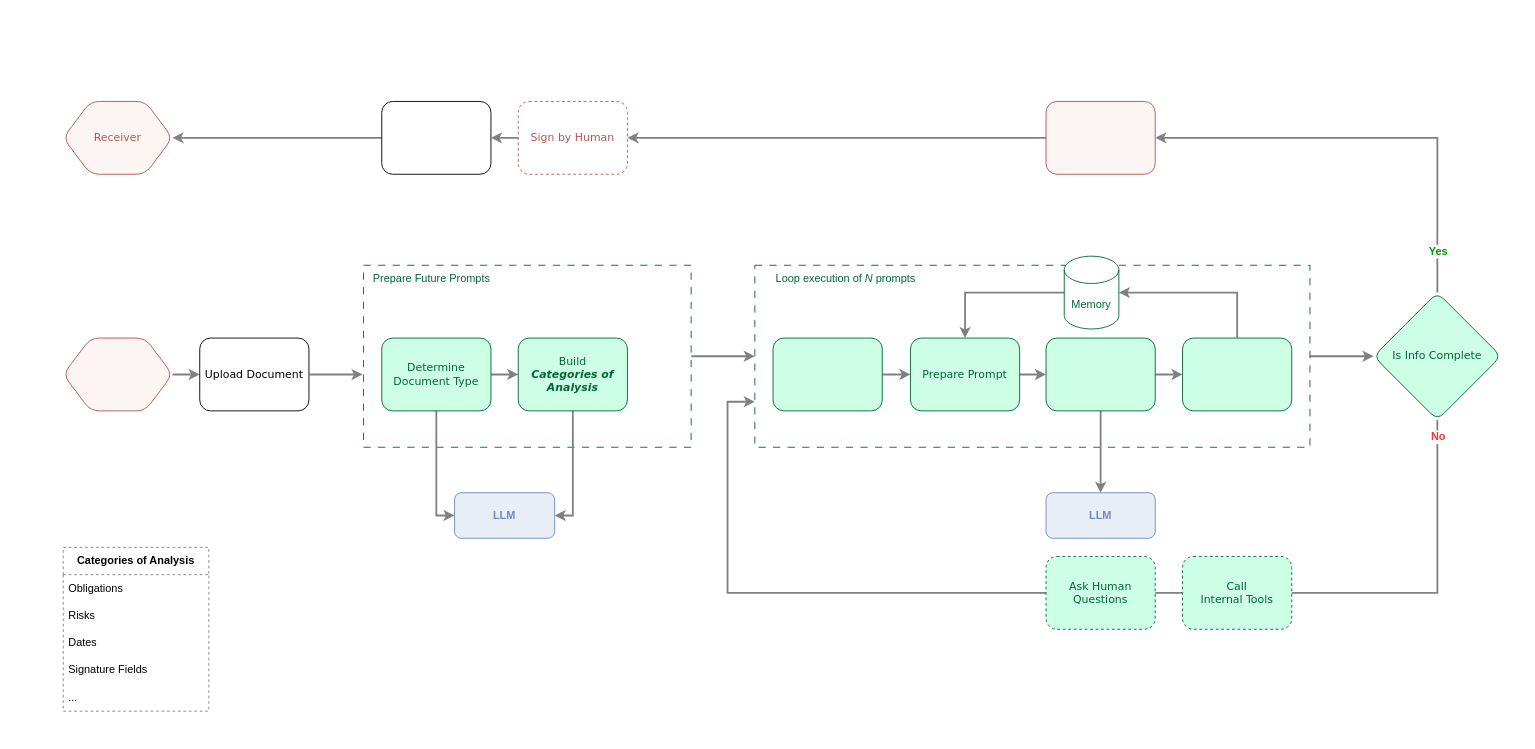
Some shapes in this 1535 by 749 pixel diagram are drawn without their labels. The centre of each missing label's shape, as x and y in pixels:
Get Next Category: the point at 827,374
Review & Adjust Results by Human: the point at 1100,137
Send Invite to Sign: the point at 436,137
Send to LLM: the point at 1100,374
Sender: the point at 117,374
Store Response: the point at 1237,374
